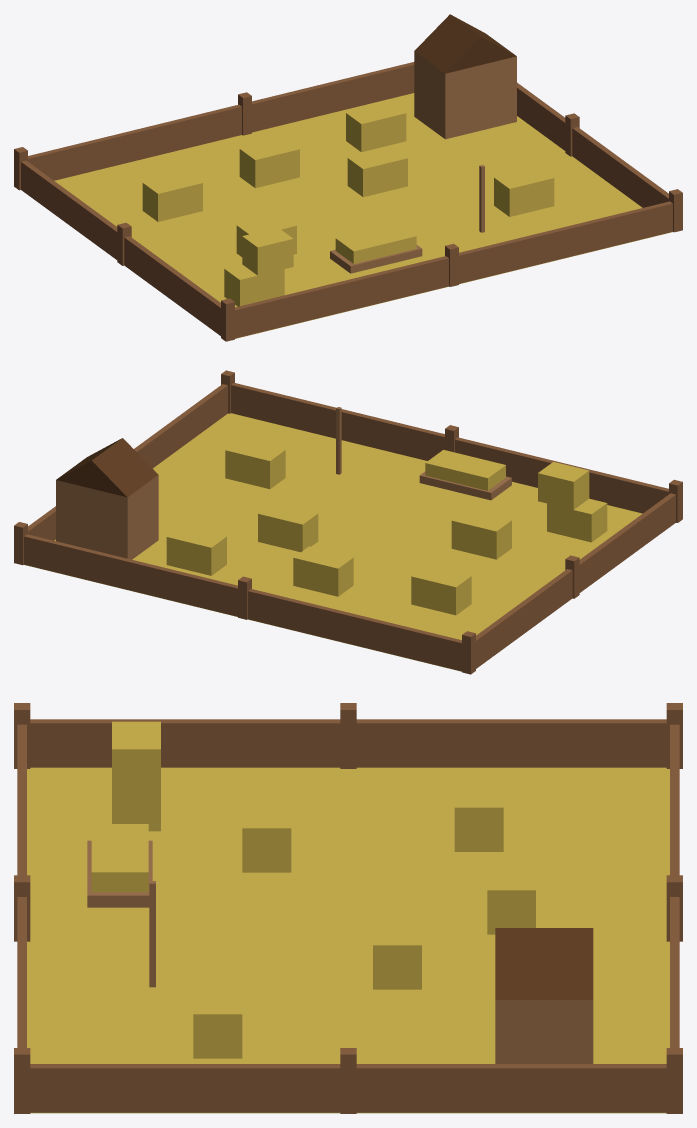
Rendered from hayfield.glb.
3 renders of one model, top to bottom at view 1: azimuth 30°, elevation 25°; view 2: azimuth 150°, elevation 25°; view 3: azimuth 270°, elevation 25°, orthographic. The views are drawn at different scales.
Parts seen in each view (by area): view 1: Field, Fence_F, Fence_B, Leanto_Wall, Fence_L, Fence_R, Leanto_Roof, Bale_1, Bale_4, Bale_5, Bale_3, Bale_2 (+6 smaller); view 2: Field, Fence_B, Fence_F, Fence_L, Leanto_Wall, Fence_R, Leanto_Roof, Bale_5, Bale_0, Bale_3, Bale_4, Bale_2 (+8 smaller); view 3: Field, Fence_R, Fence_L, Leanto_Roof, Leanto_Wall, Cart_Hay, Bale_0, Bale_2, Bale_5, Bale_1, Bale_3, Stack2 (+13 smaller).
Boxes of the visible parts, x1,y1,x2,y2 form: Field: (54, 93, 672, 338); Fence_F: (235, 201, 672, 338); Fence_B: (28, 62, 414, 180); Leanto_Wall: (414, 51, 516, 139); Fence_L: (21, 160, 220, 335); Fence_R: (517, 82, 668, 207); Leanto_Roof: (414, 14, 516, 73); Bale_1: (347, 147, 407, 197); Bale_4: (346, 102, 406, 152); Bale_5: (142, 171, 202, 221); Bale_3: (239, 138, 299, 188); Bale_2: (494, 166, 554, 216); Field: (24, 413, 642, 671); Fence_B: (24, 534, 461, 671); Fence_F: (231, 382, 668, 513); Fence_L: (476, 493, 675, 668); Leanto_Wall: (56, 475, 158, 559); Fence_R: (28, 384, 227, 540); Leanto_Roof: (56, 438, 158, 497); Bale_5: (411, 565, 471, 615); Bale_0: (451, 509, 511, 559); Bale_3: (293, 546, 353, 596); Bale_4: (166, 525, 226, 575); Bale_2: (225, 439, 285, 488); Field: (27, 767, 669, 1113); Fence_R: (30, 1064, 666, 1112); Fence_L: (30, 719, 666, 767); Leanto_Roof: (495, 928, 593, 999); Leanto_Wall: (495, 1000, 593, 1063); Cart_Hay: (91, 824, 148, 892); Bale_0: (242, 793, 291, 872); Bale_2: (193, 980, 242, 1058); Bale_5: (454, 773, 503, 851); Bale_1: (373, 911, 421, 989); Bale_3: (487, 855, 535, 934); Stack2: (112, 721, 160, 793).
Bounding box in the file's own units: 5.1 × 1.02 × 4.1.
